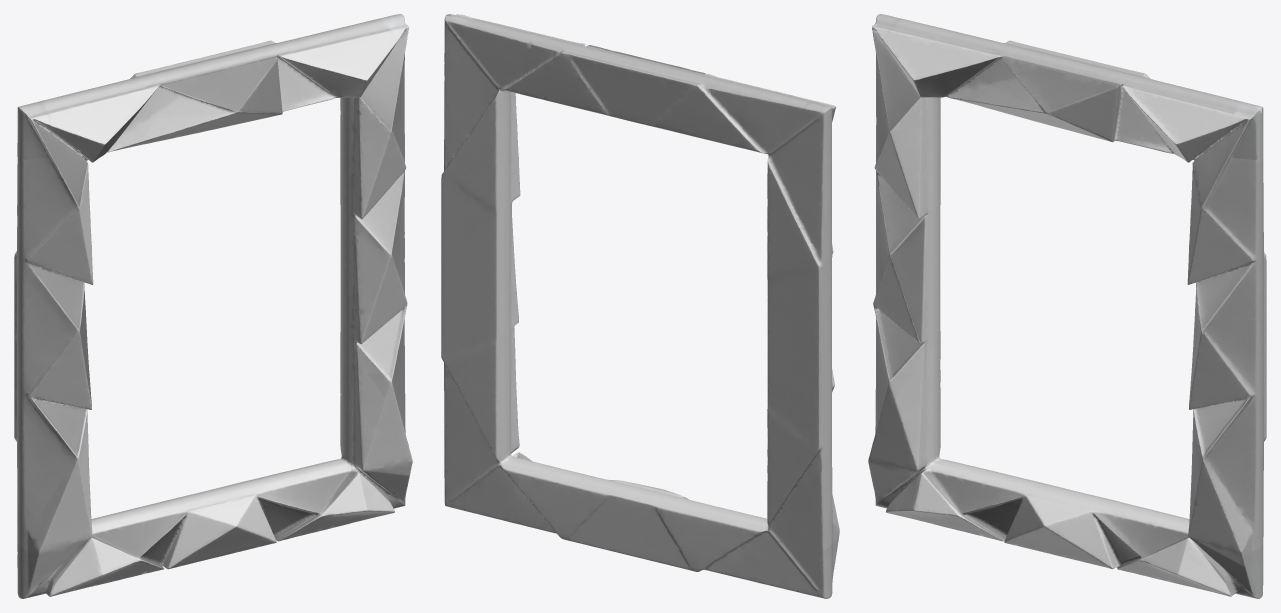
The model's file is MarcoPlateadoFacetado.glb.
The picture shows the model from 3 angles, left to right: view 1: azimuth 30°, elevation 25°; view 2: azimuth 150°, elevation 25°; view 3: azimuth 330°, elevation 25°; orthographic projection.
Size of the model in its own units: 1.56 by 1.9 by 0.2361.
1 material, 1 textured.
